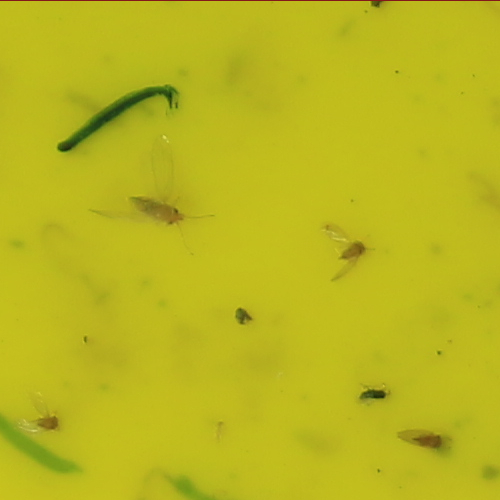Glycaspis: (130, 192, 186, 226)
Platyobria: (336, 239, 364, 269), (414, 429, 446, 452), (39, 415, 62, 437)
